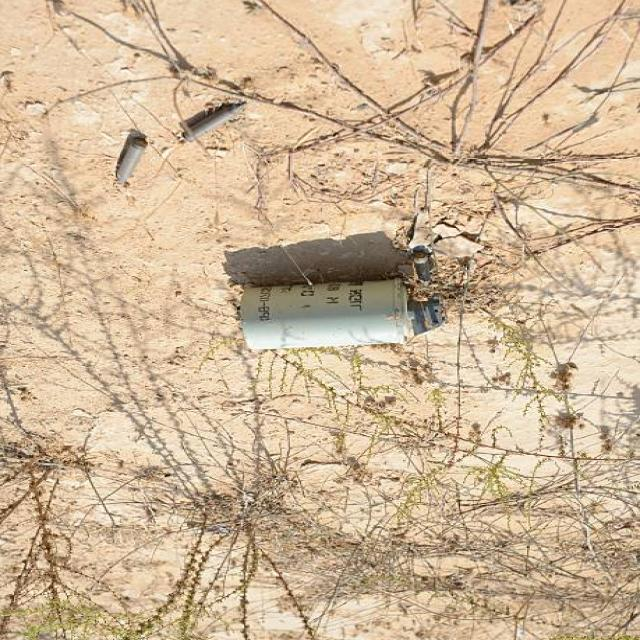grenade: (230, 273, 450, 353)
